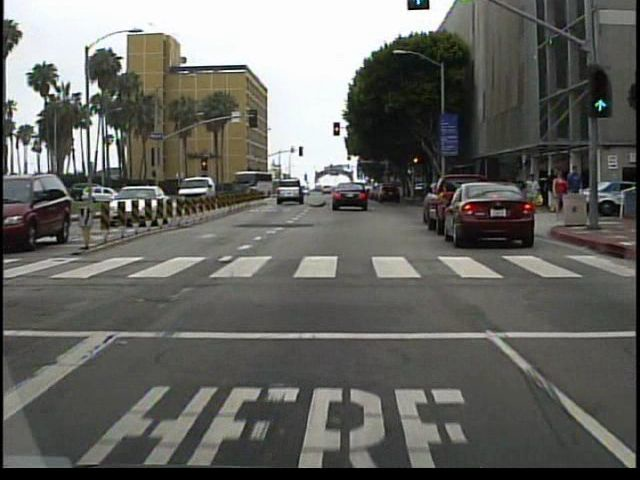person: (565, 166, 583, 223), (551, 170, 569, 223), (524, 172, 541, 202)
